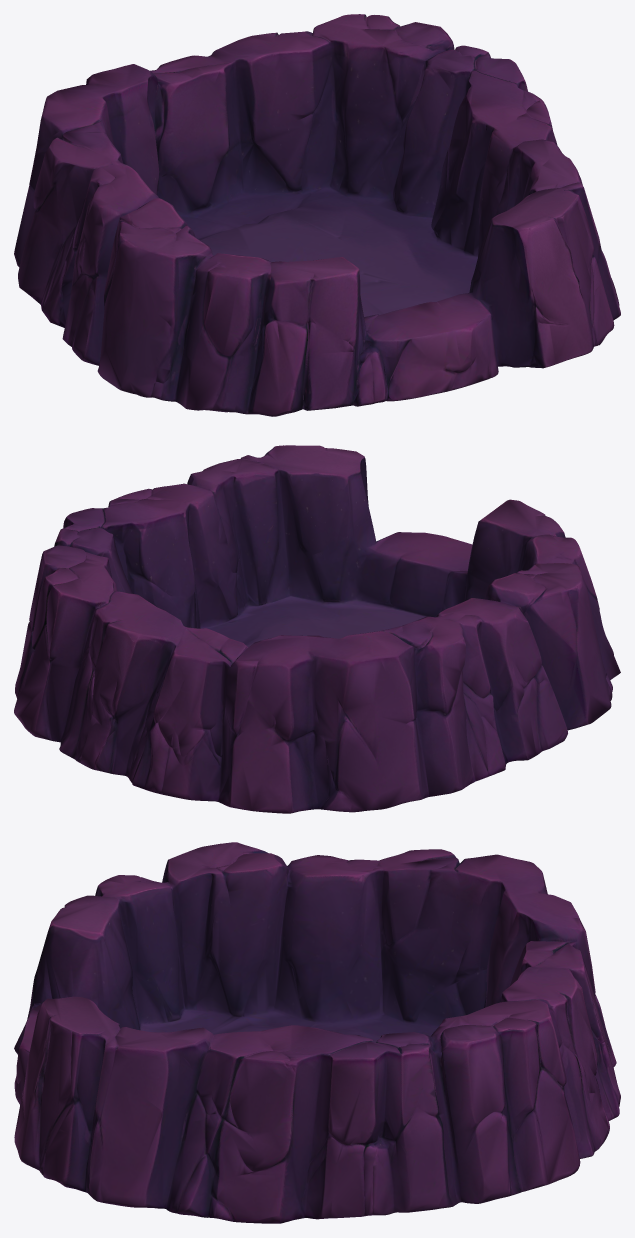
The model's file is crater_2.glb.
3 renders of one model, top to bottom at view 1: azimuth 30°, elevation 25°; view 2: azimuth 150°, elevation 25°; view 3: azimuth 270°, elevation 25°, orthographic. The views are drawn at different scales.
Visible parts, largest first — view 1: crater_2; view 2: crater_2; view 3: crater_2.
Part boxes in pixels (x1,y1,x2,y2): crater_2: (14,14,620,416); crater_2: (14,445,620,813); crater_2: (14,842,620,1223).
Size of what is drawn, in the model's own units: 11.73 by 3.61 by 12.
Materials: 1 (1 with a texture image).
